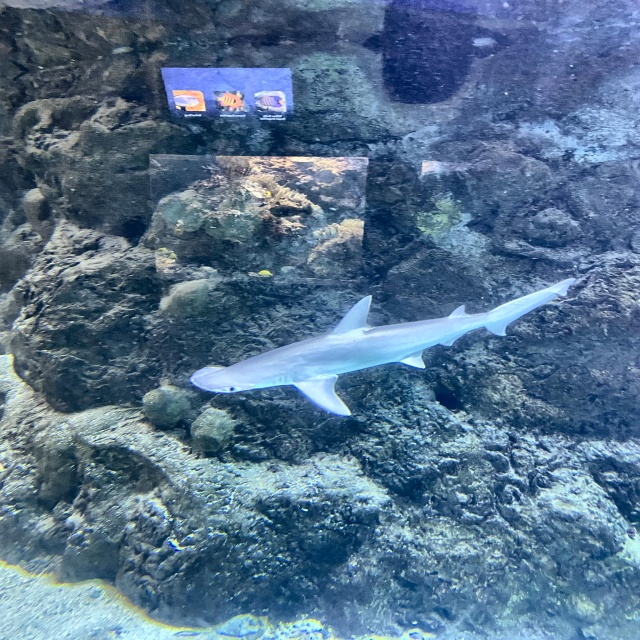shark: (189, 278, 576, 415)
